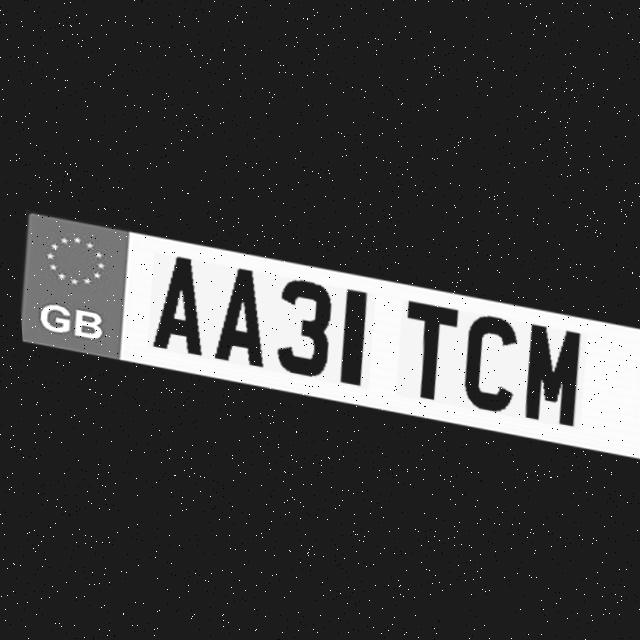license-plates: (22, 214, 640, 458)
